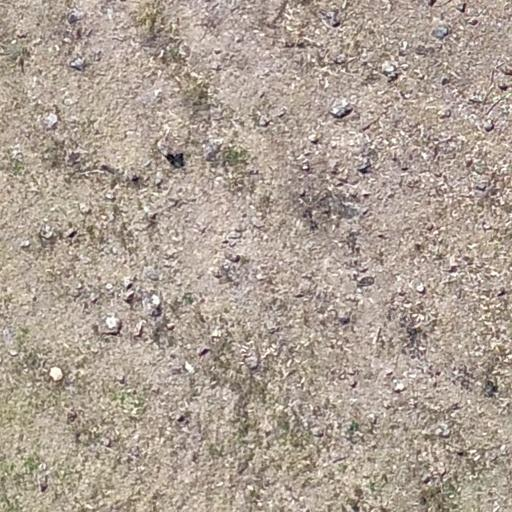stone: (202, 138, 224, 162), (330, 99, 352, 119), (130, 316, 150, 338), (320, 10, 340, 28), (106, 313, 121, 336), (66, 7, 85, 25), (41, 112, 59, 130), (382, 62, 400, 80), (141, 205, 158, 223), (430, 26, 450, 40), (39, 224, 56, 240), (243, 354, 260, 370), (68, 57, 86, 72), (223, 248, 241, 262), (196, 342, 212, 357), (434, 423, 451, 437), (356, 160, 372, 174), (447, 254, 459, 272), (437, 106, 452, 120), (210, 327, 223, 341), (269, 106, 284, 118), (485, 117, 496, 133), (51, 365, 62, 381), (123, 289, 135, 303), (65, 228, 78, 239), (338, 312, 351, 323), (258, 116, 272, 126), (120, 279, 135, 288), (455, 2, 467, 13), (211, 267, 223, 278), (233, 225, 248, 233), (337, 173, 349, 183), (78, 203, 91, 212), (176, 414, 186, 424), (348, 379, 358, 389), (498, 82, 509, 91), (416, 284, 427, 293), (151, 385, 162, 394), (497, 288, 507, 297), (19, 241, 30, 249), (312, 428, 323, 436), (310, 135, 319, 144), (476, 182, 486, 190), (368, 414, 376, 424), (116, 374, 126, 382), (235, 34, 243, 44), (229, 232, 241, 238), (106, 192, 118, 198), (299, 186, 305, 196), (304, 148, 311, 156), (228, 240, 237, 246), (385, 370, 394, 376), (106, 284, 113, 291), (168, 323, 175, 330), (214, 48, 221, 55)
